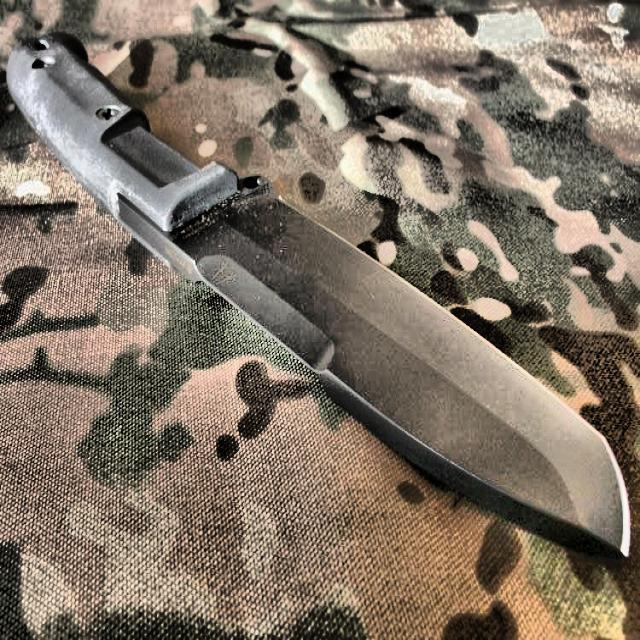knife: (6, 30, 631, 560)
